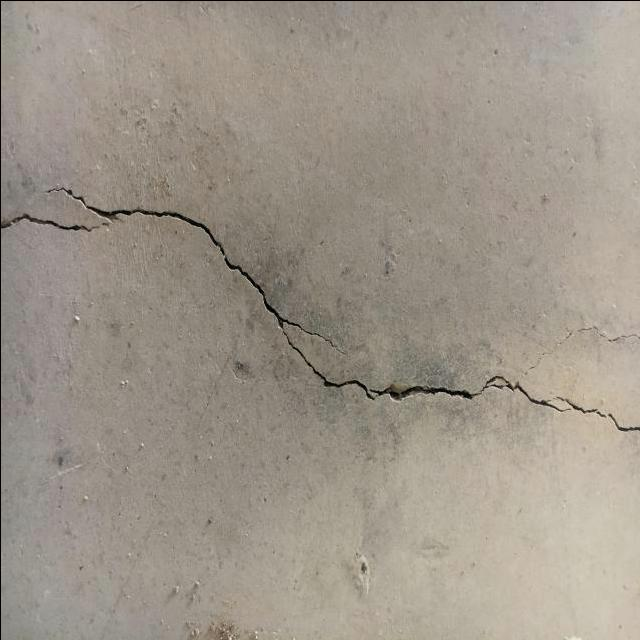SurfaceCrack: (1, 159, 640, 456)
